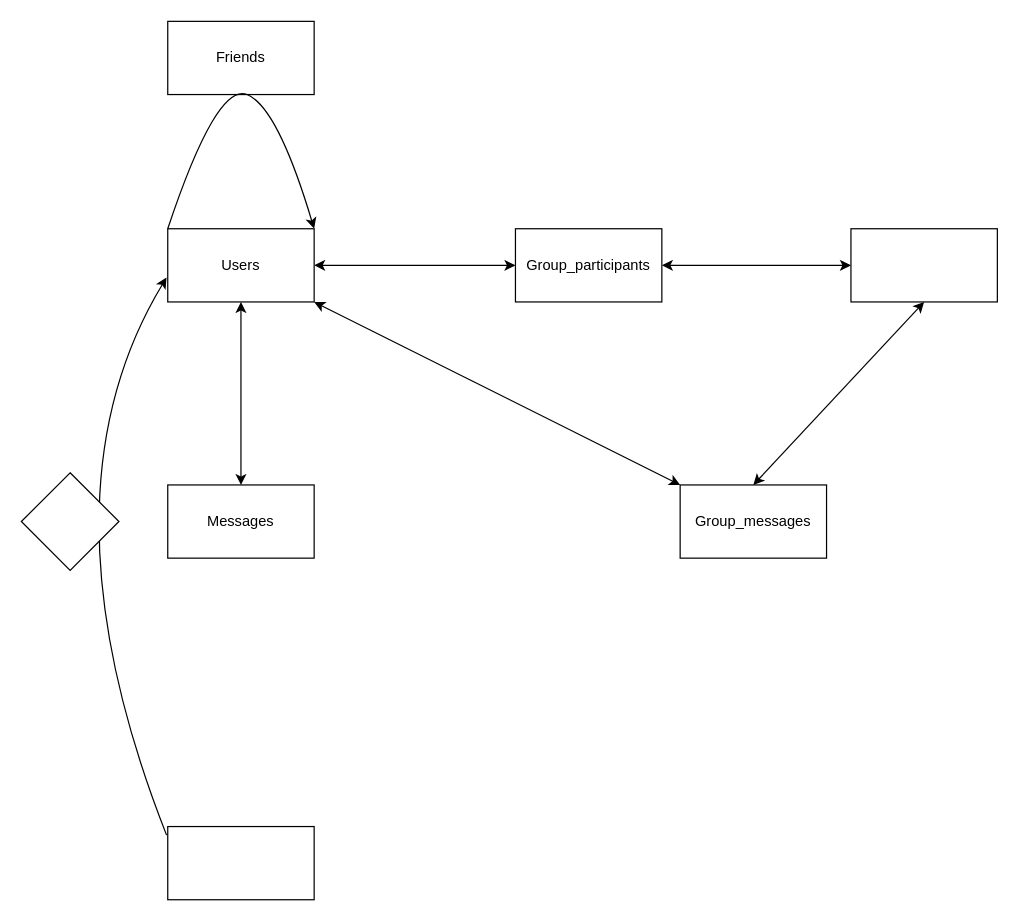
Image size: 1019x921. Some labels were removed from this diagram. Each missing label, with the centre of its shape:
User_groups: (x=923, y=265)
userstokens: (x=240, y=862)
